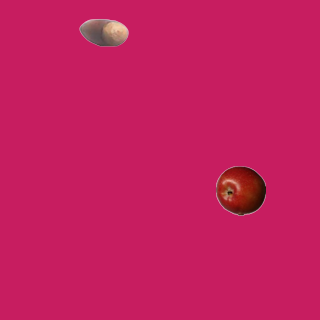Apple Braeburn: (215, 165, 265, 215)
Hazelnut: (78, 7, 128, 57)
